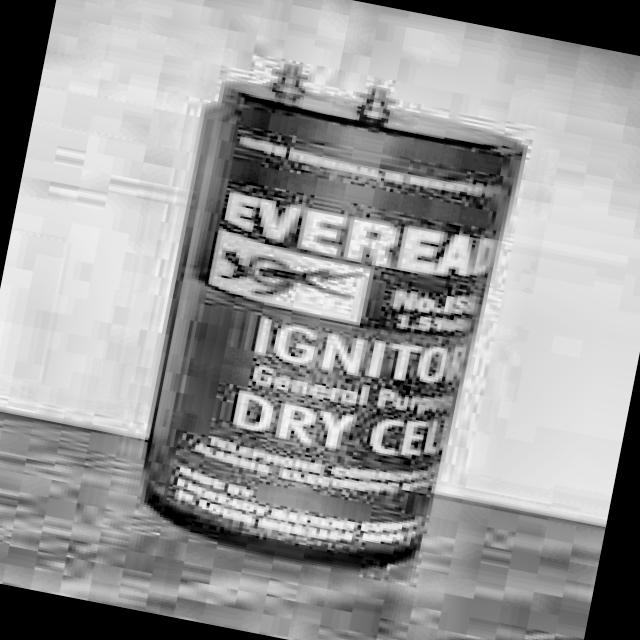Battery: (148, 80, 508, 570)
